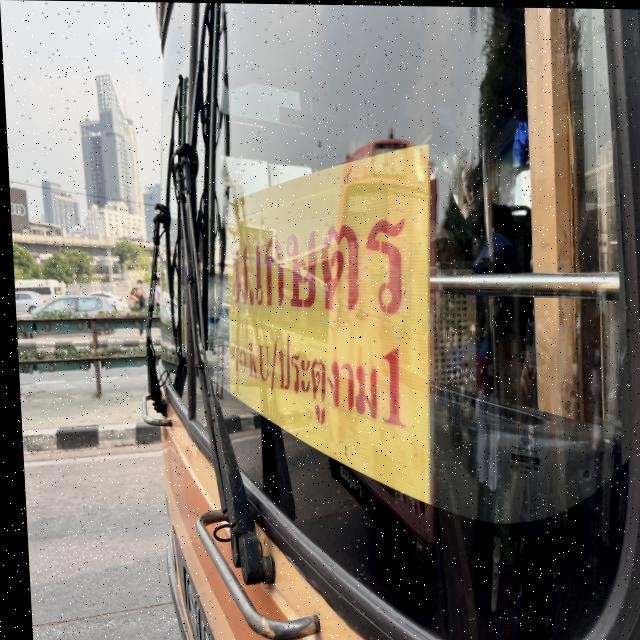BMTA-bus: (114, 1, 640, 640)
Destination Sign: (224, 144, 428, 499)
